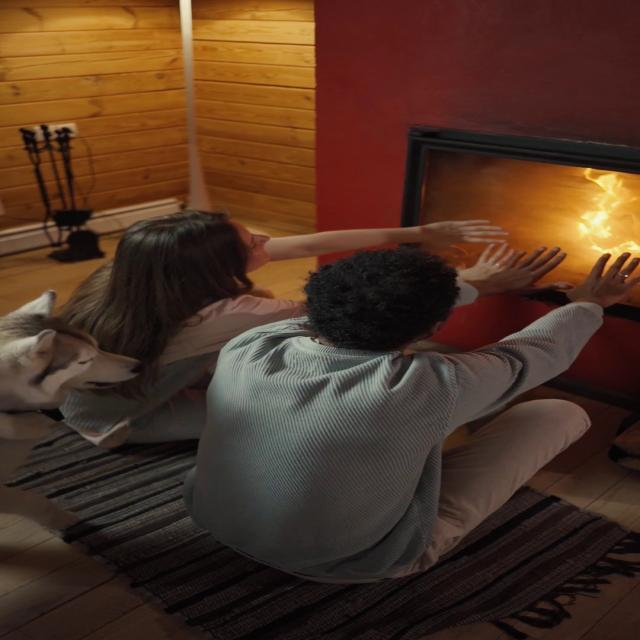Fire: (549, 171, 640, 248)
